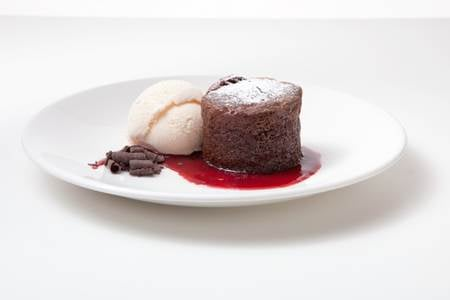curry: (21, 11, 449, 299)
sushi: (200, 73, 304, 174)
